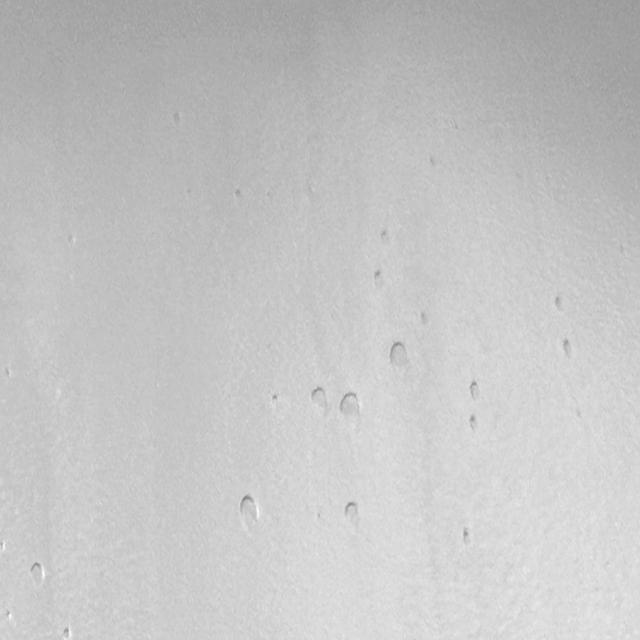pin holes: (337, 388, 365, 425), (237, 491, 264, 529), (387, 341, 412, 371), (308, 384, 331, 414), (342, 498, 363, 526), (28, 562, 48, 590), (558, 337, 578, 363), (457, 526, 476, 553), (467, 378, 484, 404), (552, 293, 571, 314), (376, 226, 394, 248), (417, 309, 434, 331), (371, 268, 387, 288), (468, 411, 482, 433), (170, 112, 186, 130), (59, 626, 74, 640), (4, 608, 17, 624), (270, 393, 283, 408), (233, 187, 245, 203), (3, 366, 14, 381), (0, 538, 7, 555)
